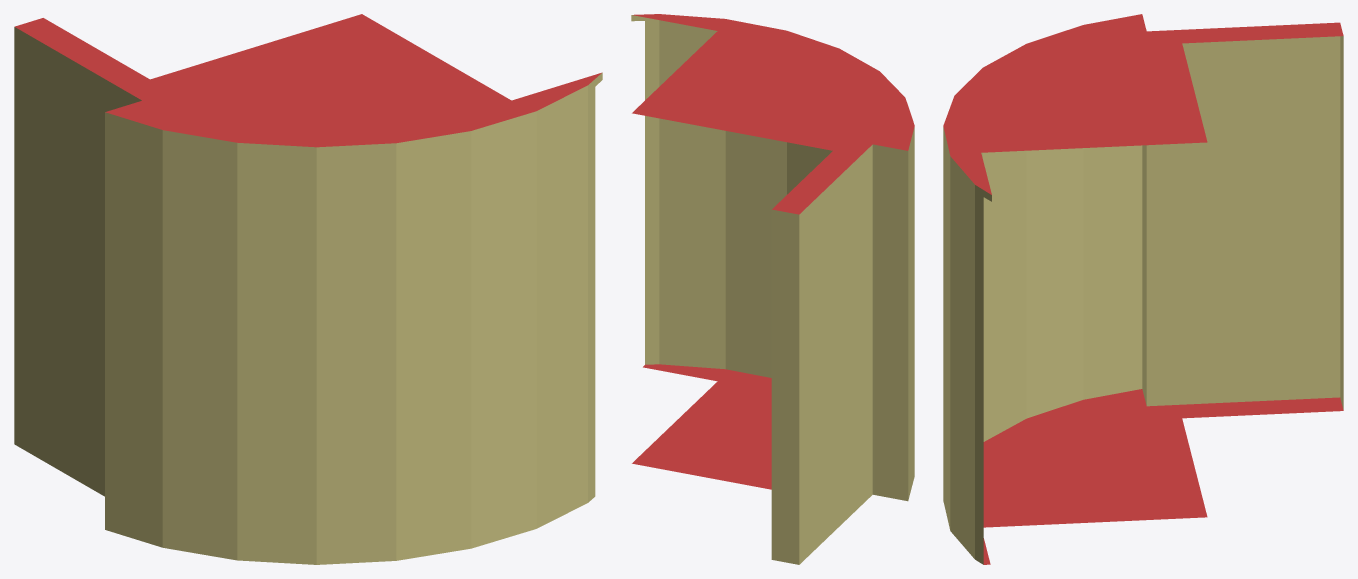
The picture shows the model from 3 angles, left to right: view 1: azimuth 30°, elevation 25°; view 2: azimuth 150°, elevation 25°; view 3: azimuth 270°, elevation 25°; orthographic projection. The views are drawn at different scales.
Bounding box in the file's own units: 6.65 × 6.21 × 6.42.
